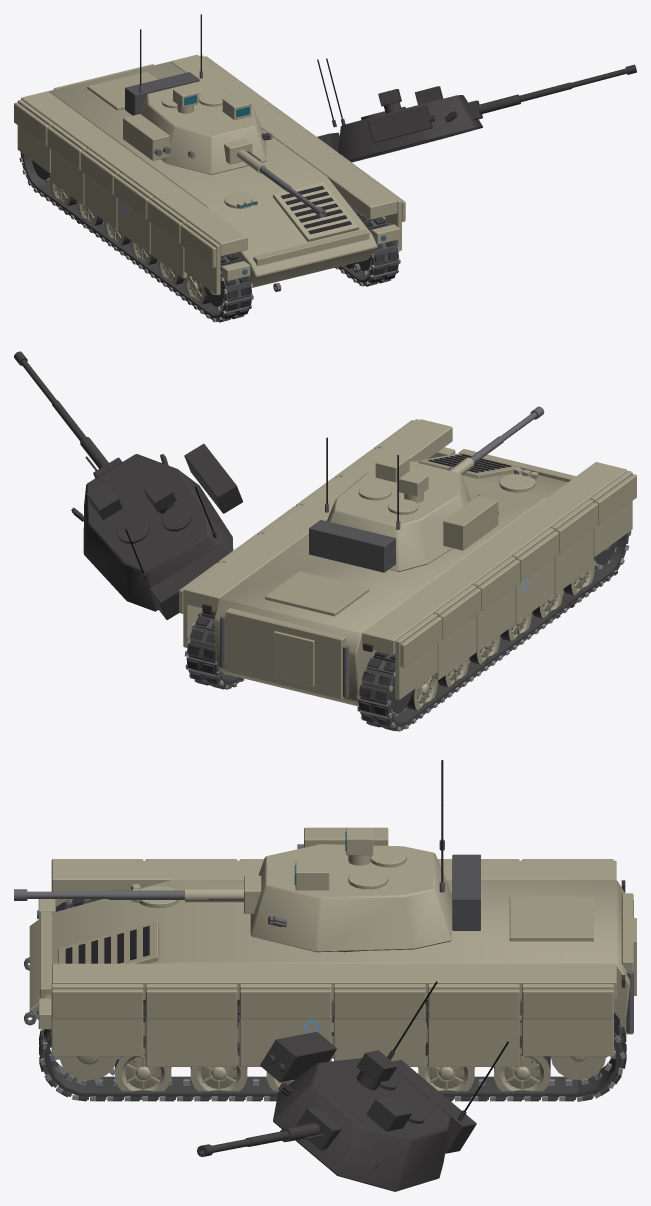
File: ifv__k21_ifv.glb
3 views of the same model, one above another, from view 1: azimuth 30°, elevation 25°; view 2: azimuth 150°, elevation 25°; view 3: azimuth 270°, elevation 25° (orthographic). The views are drawn at different scales.
Parts seen in each view (by area): view 1: Hull_Mesh, Turret_Mesh, Wreck, Track_L_Mesh, Track_R_Mesh, Gun_Mesh; view 2: Hull_Mesh, Wreck, Turret_Mesh, Track_L_Mesh, Track_R_Mesh, Gun_Mesh, Wheel_L0_Mesh; view 3: Hull_Mesh, Wreck, Turret_Mesh, Track_R_Mesh, Gun_Mesh, Wheel_R0_Mesh, Wheel_R5_Mesh, Wheel_R4_Mesh, Sprocket_R_Mesh, Wheel_R1_Mesh, Idler_R_Mesh.
Boxes of the visible parts, bbox=[...] form: Hull_Mesh: bbox=[14, 54, 405, 295]; Turret_Mesh: bbox=[123, 14, 272, 174]; Wreck: bbox=[19, 58, 636, 321]; Track_L_Mesh: bbox=[19, 152, 253, 322]; Track_R_Mesh: bbox=[335, 204, 400, 286]; Gun_Mesh: bbox=[224, 138, 326, 217]; Hull_Mesh: bbox=[179, 419, 636, 706]; Wreck: bbox=[14, 351, 631, 730]; Turret_Mesh: bbox=[309, 437, 498, 572]; Track_L_Mesh: bbox=[356, 531, 630, 731]; Track_R_Mesh: bbox=[185, 458, 430, 689]; Gun_Mesh: bbox=[446, 406, 544, 474]; Wheel_L0_Mesh: bbox=[407, 675, 437, 710]; Hull_Mesh: bbox=[24, 859, 636, 1066]; Wreck: bbox=[39, 899, 623, 1191]; Turret_Mesh: bbox=[250, 760, 480, 952]; Track_R_Mesh: bbox=[39, 1000, 626, 1101]; Gun_Mesh: bbox=[14, 875, 261, 913]; Wheel_R0_Mesh: bbox=[494, 1036, 550, 1099]; Wheel_R5_Mesh: bbox=[115, 1035, 171, 1099]; Wheel_R4_Mesh: bbox=[190, 1042, 247, 1098]; Sprocket_R_Mesh: bbox=[53, 1056, 121, 1083]; Wheel_R1_Mesh: bbox=[418, 1042, 474, 1098]; Idler_R_Mesh: bbox=[551, 1056, 605, 1080].
Size of what is drawn, in the model's own units: 9.25 by 3.43 by 7.39.
